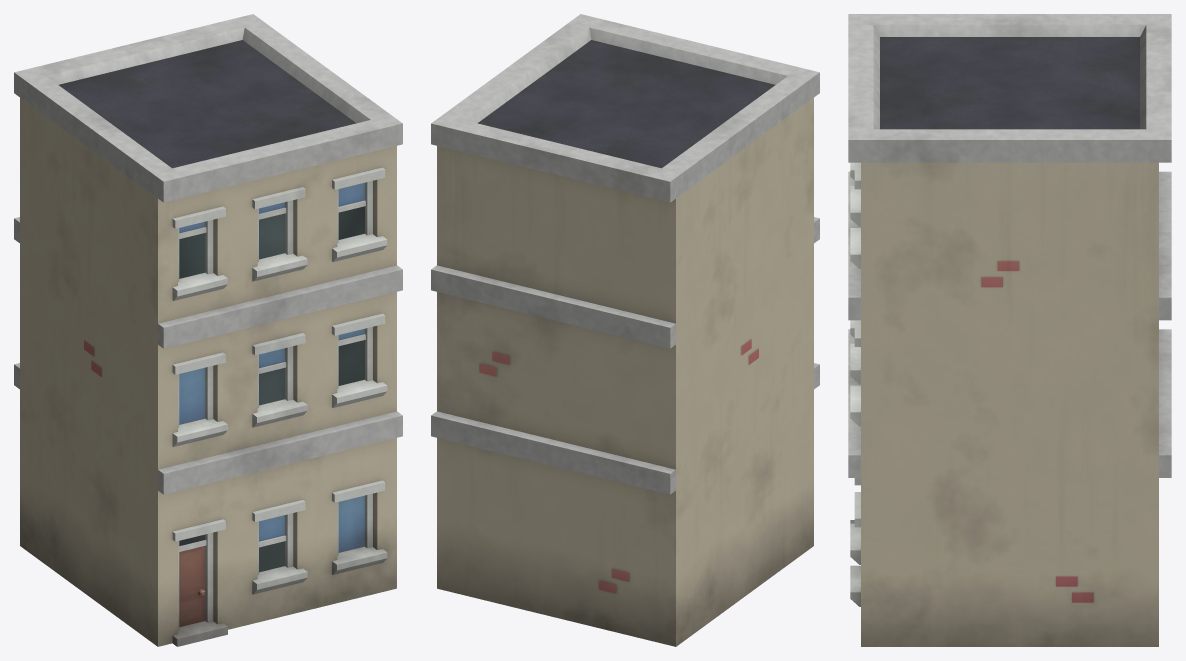
File: building_C.glb
3 renders of one model, left to right at view 1: azimuth 30°, elevation 25°; view 2: azimuth 150°, elevation 25°; view 3: azimuth 270°, elevation 25°, orthographic. The views are drawn at different scales.
Visible parts, largest first — view 1: building_C_withoutBase; view 2: building_C_withoutBase; view 3: building_C_withoutBase.
Part boxes in pixels (x1,y1,x2,y2): building_C_withoutBase: (14, 14, 402, 646); building_C_withoutBase: (431, 14, 819, 646); building_C_withoutBase: (848, 14, 1171, 646).
Size of the model in its own units: 1.21 by 2.25 by 1.3.
2 materials, 2 textured.
